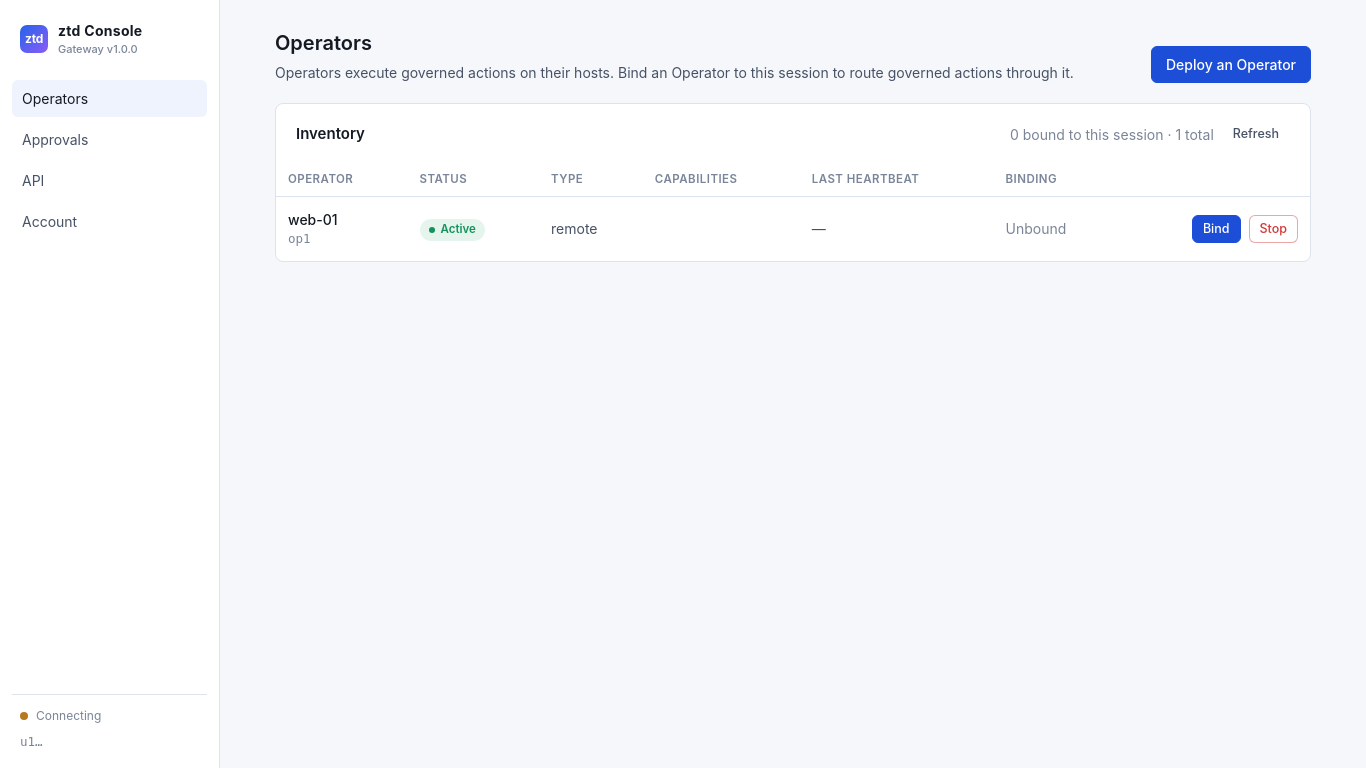
Test: operators › binds an Operator to this session
The width and height of the screenshot is (1366, 768).
Step 1. Click the button "Bind" → [1216, 229], box [1192,214,1240,243]
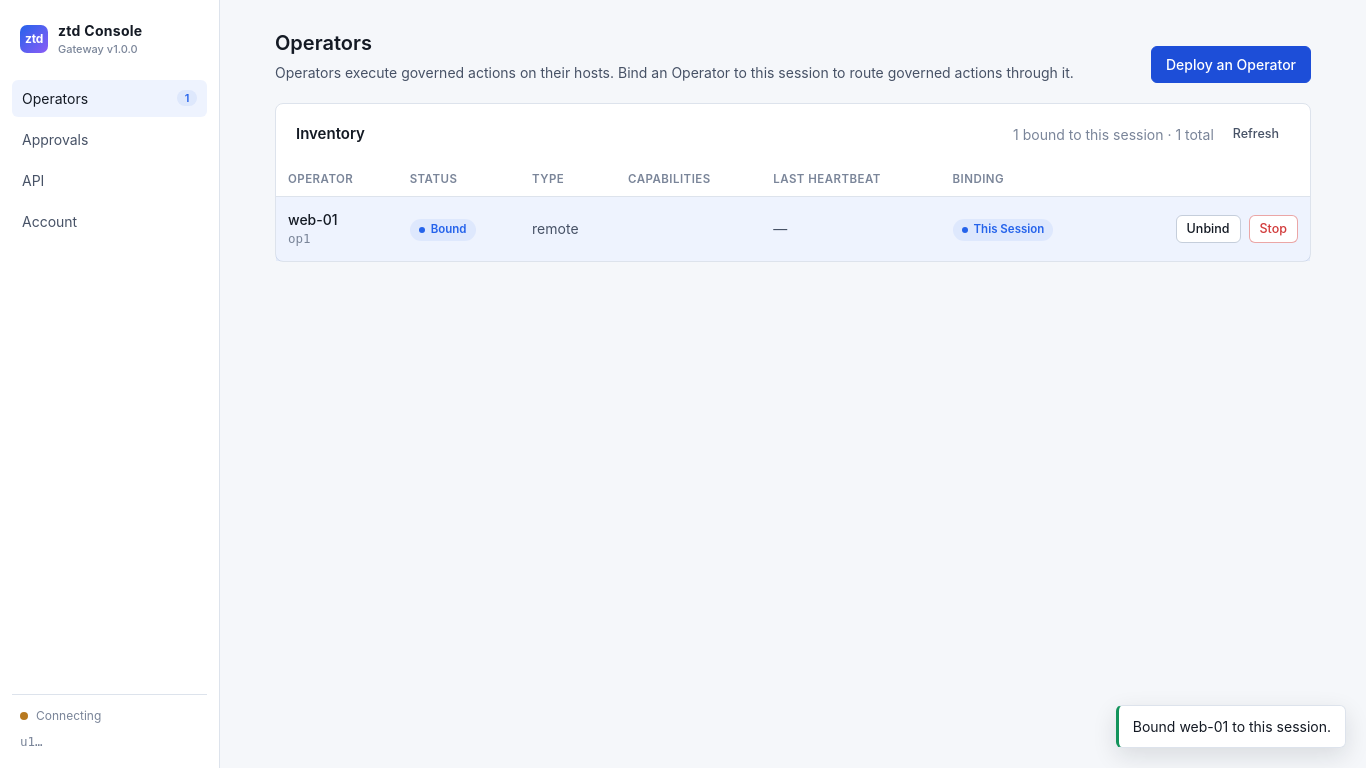
Result: the text "This session" is shown at [952,219,1053,241]
Result: the button "Unbind" is shown at [1176,214,1240,243]
